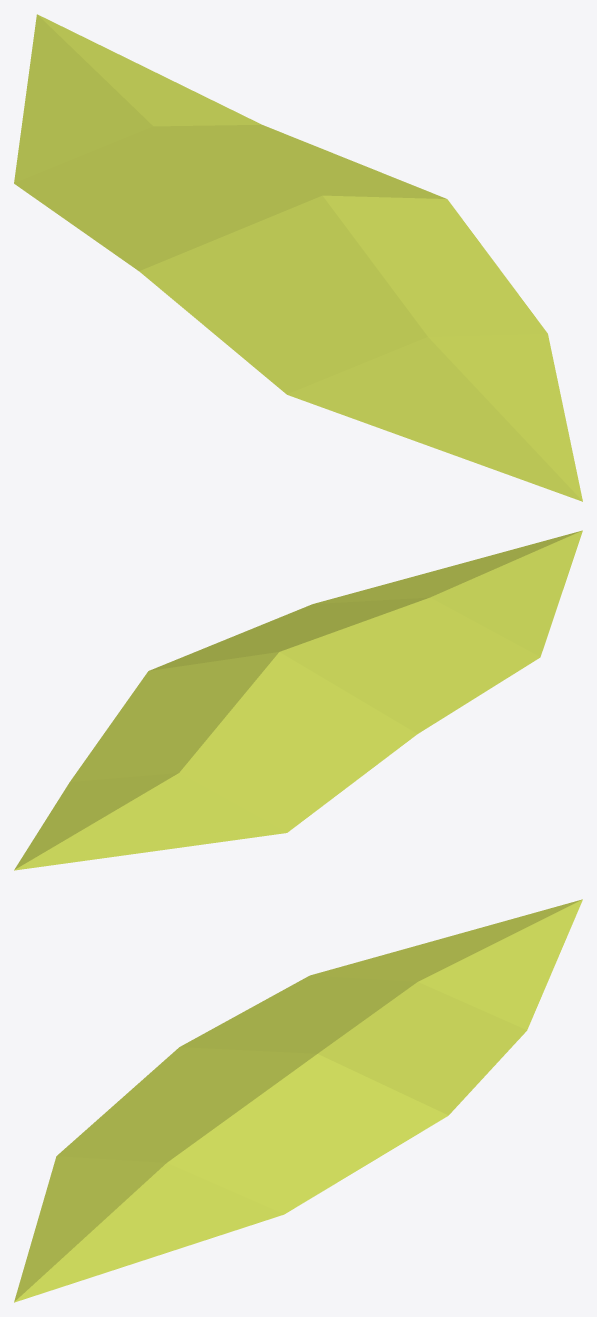
Rendered from Palm_Leave_TwoSided_04.fbx.
3 renders of one model, top to bottom at view 1: azimuth 30°, elevation 25°; view 2: azimuth 150°, elevation 25°; view 3: azimuth 330°, elevation 25°, orthographic. The views are drawn at different scales.
Parts seen in each view (by area): view 1: Palm_Leave_TwoSided_04; view 2: Palm_Leave_TwoSided_04; view 3: Palm_Leave_TwoSided_04.
Part boxes in pixels (x1=…): Palm_Leave_TwoSided_04: x1=14, y1=14, x2=582, y2=501; Palm_Leave_TwoSided_04: x1=14, y1=530, x2=582, y2=870; Palm_Leave_TwoSided_04: x1=14, y1=899, x2=582, y2=1302.
Bounding box in the file's own units: 89.34 × 20.25 × 301.
